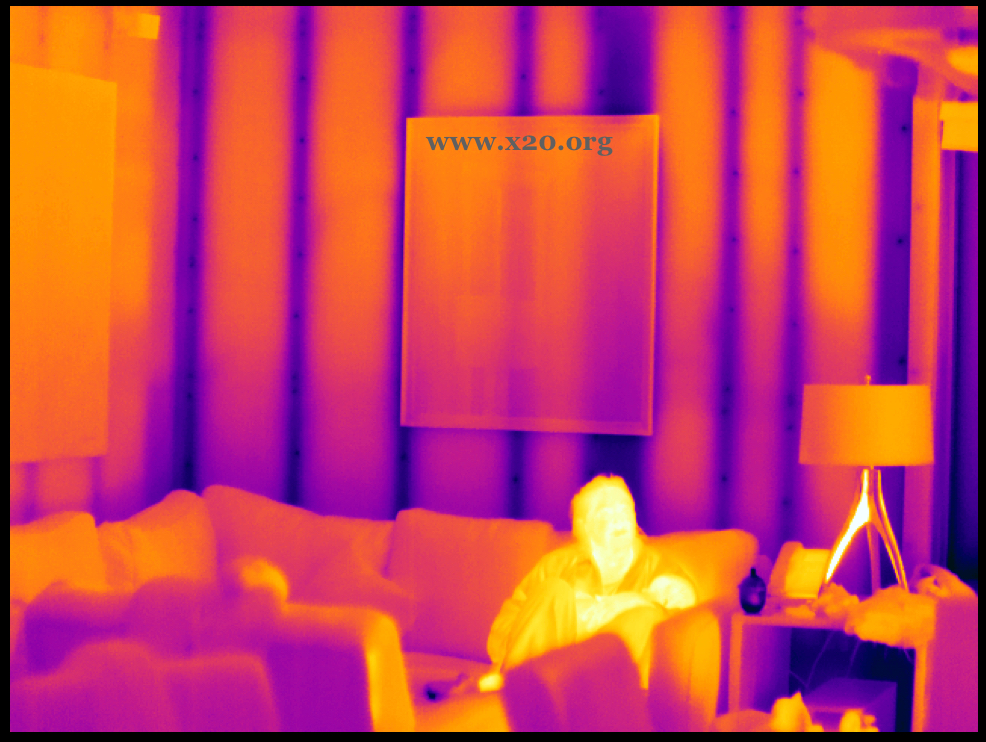person: (492, 458, 700, 732)
